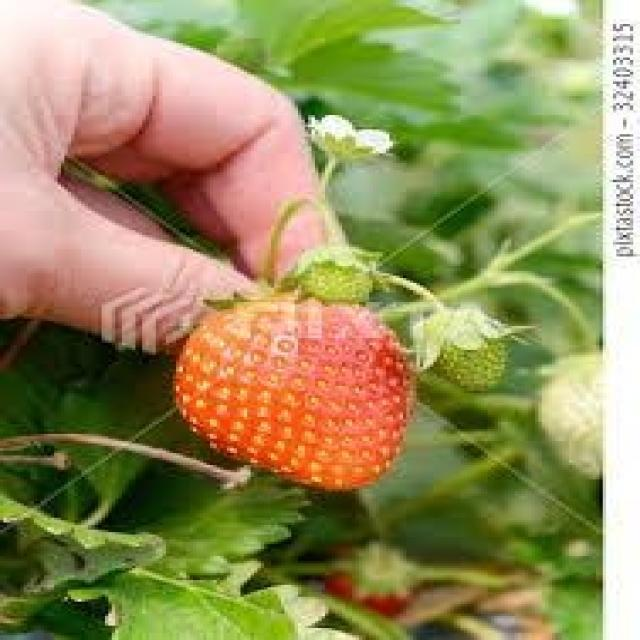Healthy Fruit: (172, 284, 420, 491)
